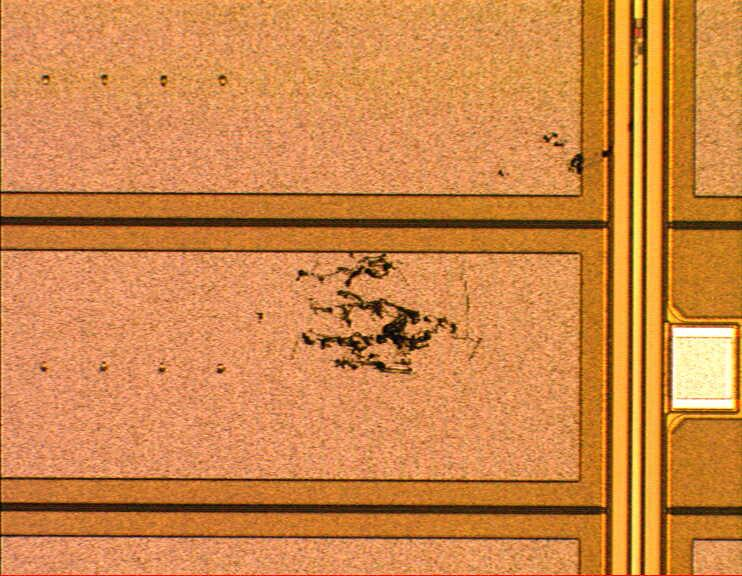SCRATCH: (279, 120, 653, 389)
